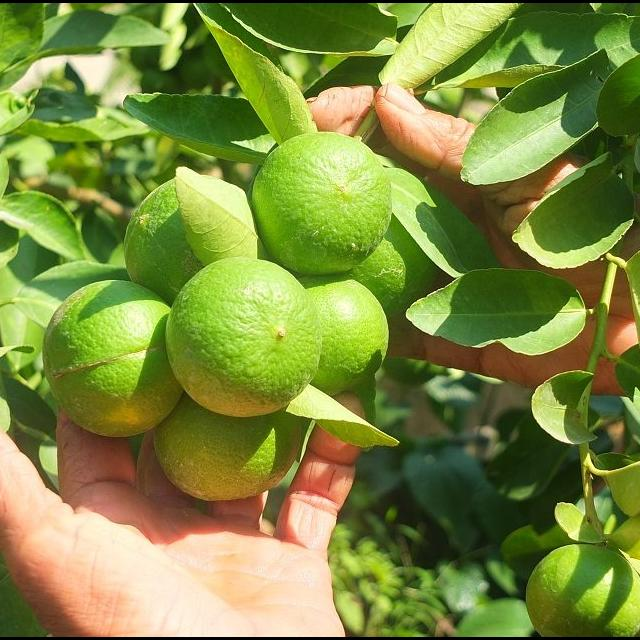lime: (29, 276, 204, 448), (151, 256, 331, 421), (114, 160, 287, 321), (236, 120, 403, 285), (151, 368, 316, 510), (284, 271, 396, 403), (503, 536, 640, 637)
